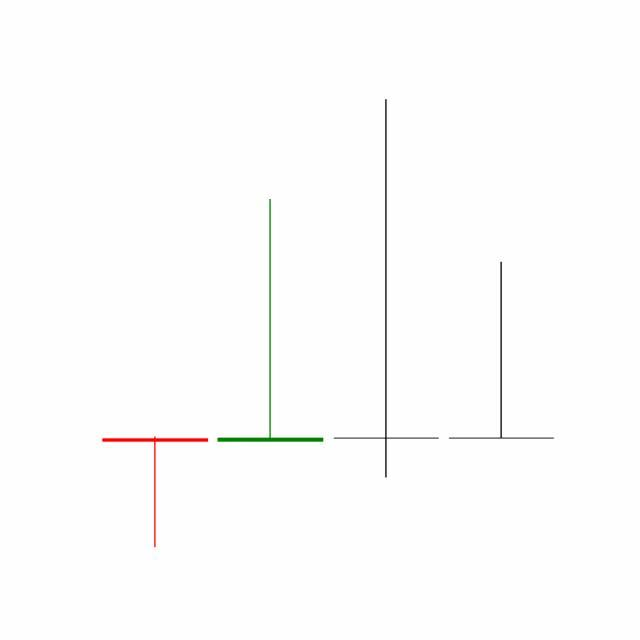Gravestone Doji: (444, 260, 560, 442)
